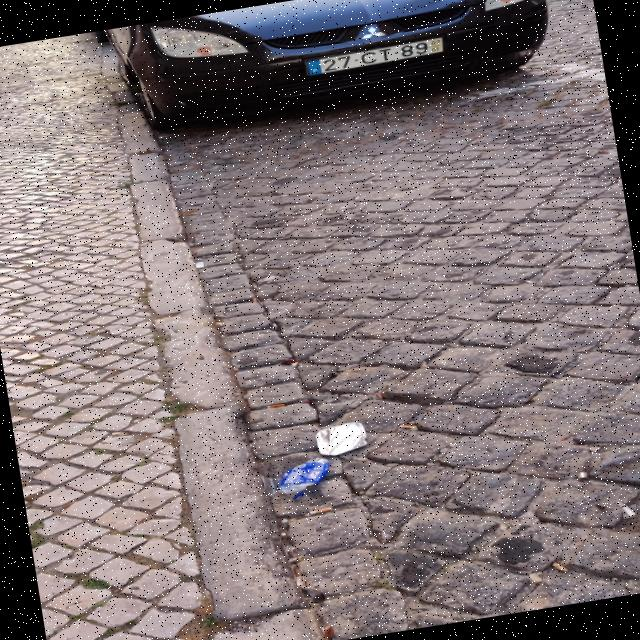Aluminium foil: (317, 422, 368, 456)
Cigarette: (310, 507, 332, 515), (622, 507, 637, 518), (530, 573, 542, 582), (267, 404, 286, 408), (398, 424, 417, 428), (297, 577, 304, 587), (113, 432, 128, 436), (401, 216, 409, 222), (235, 178, 239, 181)
Metal bottle cap: (226, 306, 237, 312)
Plastic film: (293, 363, 301, 366)
Unlabeled litter: (577, 472, 590, 480), (197, 261, 204, 268)
